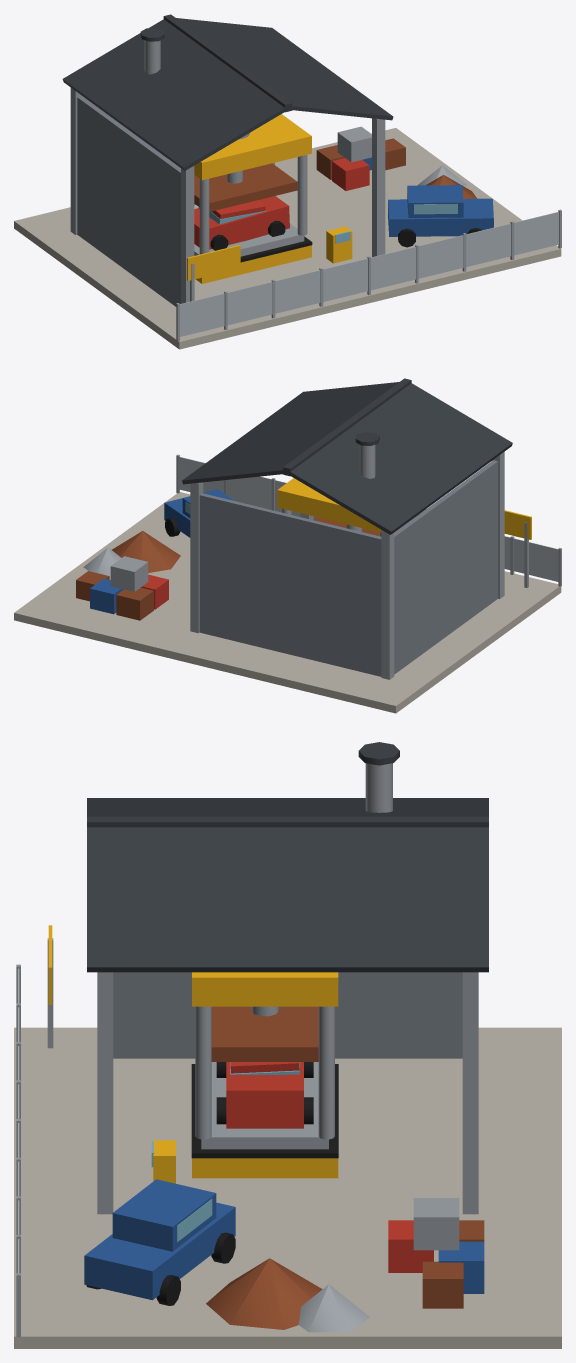
Rendered from compacteur_voitures.glb.
3 views of the same model, one above another, from view 1: azimuth 30°, elevation 25°; view 2: azimuth 150°, elevation 25°; view 3: azimuth 270°, elevation 25° (orthographic). The views are drawn at different scales.
Visible parts, largest first — view 1: dalle, toit_gauche, mur_cote, grillage, toit_droit, poteau (×3), presse_traverse, plateau_presse, caisse, caisse_ecrasee, colonne_presse (×2), habitacle (+13 smaller); view 2: mur_fond, dalle, toit_gauche, mur_cote, toit_droit, poteau (×3), grillage, presse_traverse, tas_ferraille, faitage, cube_4, cube_1 (+7 smaller); view 3: dalle, toit_droit, mur_cote, poteau (×2), toit_gauche, caisse, plateau_presse, presse_traverse, tas_ferraille, faitage, habitacle, colonne_presse (×2) (+12 smaller).
Boxes of the visible parts, x1,y1,x2,y2 form: dalle: [14, 128, 561, 349]; toit_gauche: [62, 19, 288, 170]; mur_cote: [77, 96, 180, 306]; grillage: [180, 212, 558, 336]; toit_droit: [176, 18, 393, 120]; poteau (×3): [70, 87, 385, 303]; presse_traverse: [194, 114, 311, 180]; plateau_presse: [194, 163, 297, 211]; caisse: [388, 198, 493, 236]; caisse_ecrasee: [194, 196, 289, 249]; colonne_presse (×2): [199, 155, 307, 254]; habitacle: [407, 185, 463, 217]; mur_fond: [199, 493, 381, 676]; dalle: [14, 492, 561, 713]; toit_gauche: [286, 383, 512, 534]; mur_cote: [394, 460, 497, 674]; toit_droit: [182, 382, 398, 484]; poteau (×3): [190, 452, 504, 679]; grillage: [179, 456, 558, 581]; presse_traverse: [277, 478, 381, 532]; tas_ferraille: [112, 531, 180, 572]; faitage: [283, 378, 411, 476]; cube_4: [110, 556, 148, 591]; cube_1: [116, 587, 153, 620]; dalle: [14, 1027, 561, 1348]; toit_droit: [87, 827, 488, 972]; mur_cote: [113, 972, 462, 1058]; poteau (×2): [97, 972, 478, 1214]; toit_gauche: [87, 798, 488, 816]; caisse: [84, 1202, 235, 1300]; plateau_presse: [211, 1006, 318, 1061]; presse_traverse: [192, 972, 338, 1006]; tas_ferraille: [206, 1258, 322, 1329]; faitage: [87, 816, 488, 827]; habitacle: [112, 1179, 216, 1251]; colonne_presse (×2): [195, 1006, 334, 1139].
Size of the model in its own units: 16.1 by 8.63 by 12.
